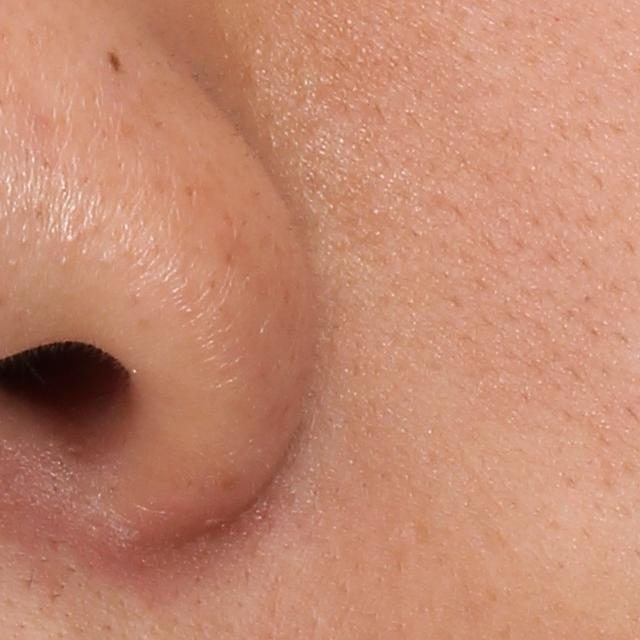nevus: (100, 47, 122, 76)
